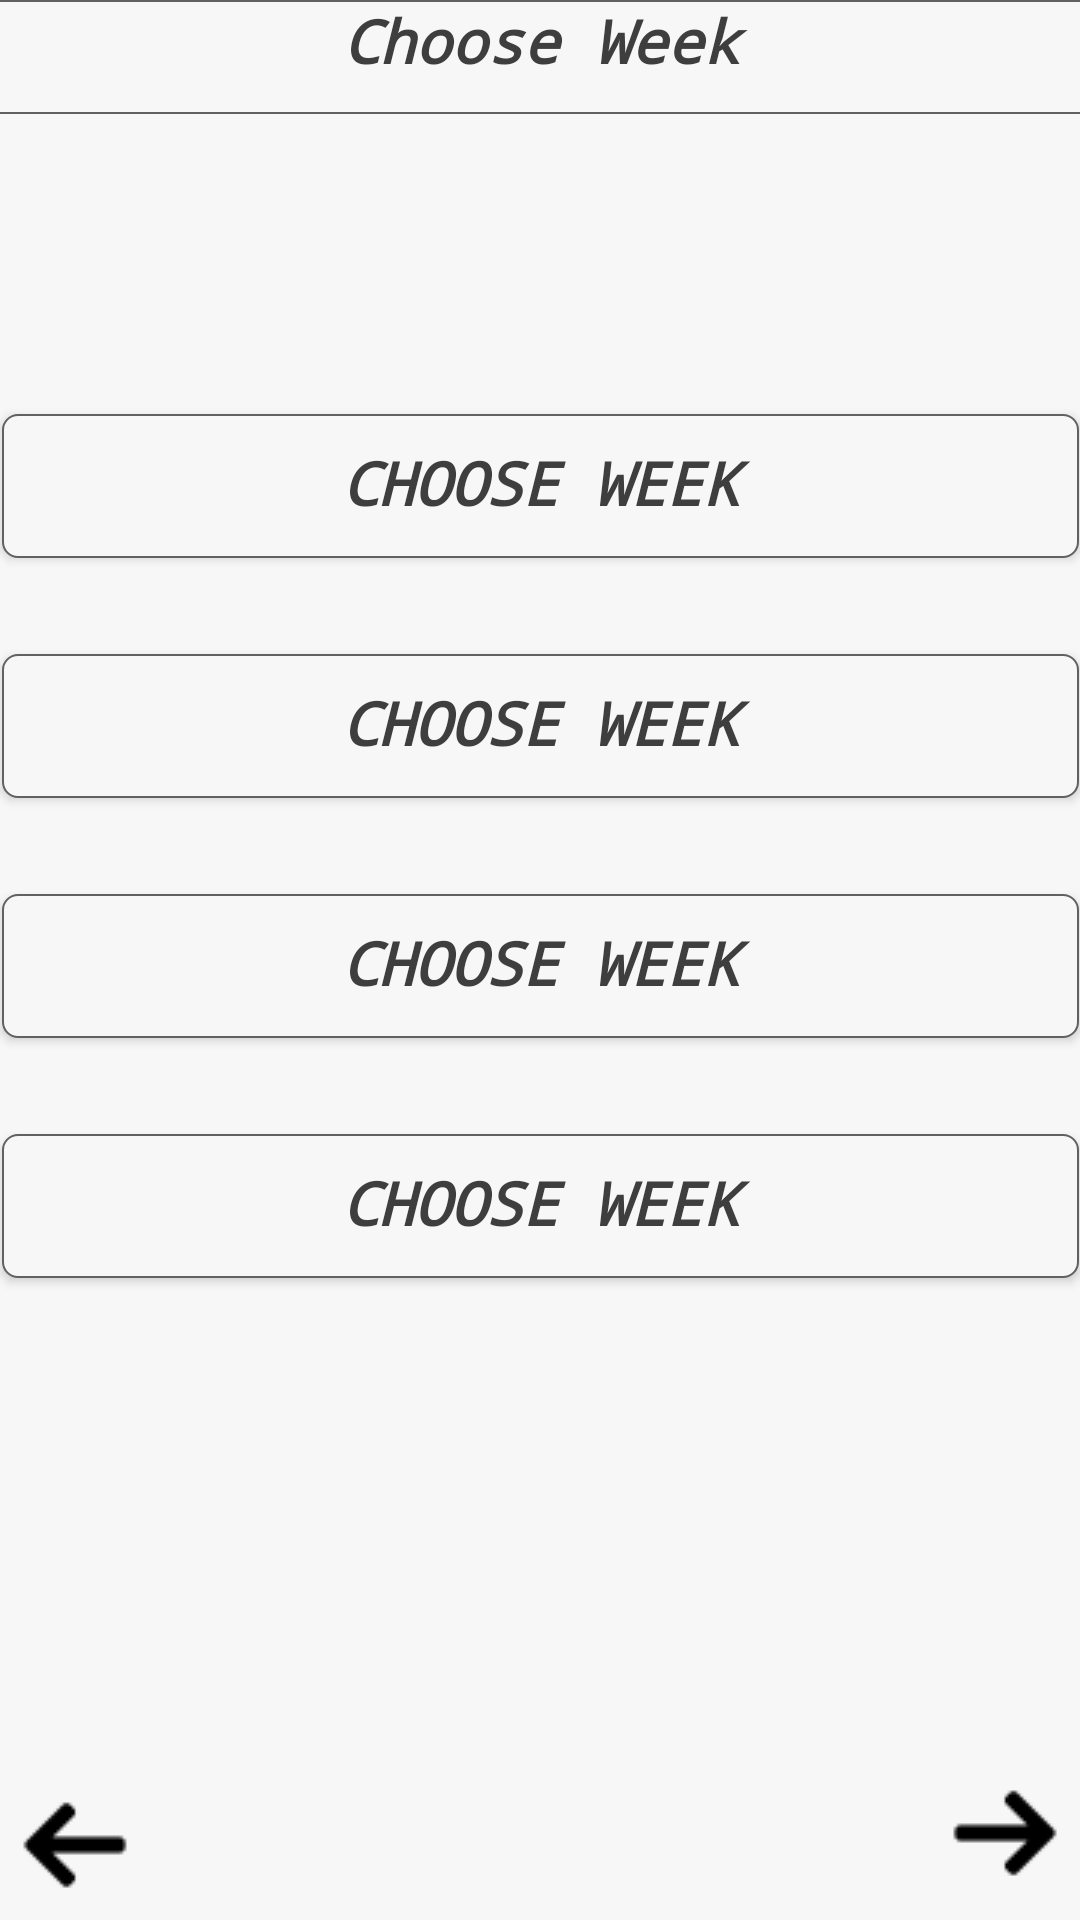

Named icons in this screenshot (1080 x 1920) and their bounding boxes, box(x1, y1, x2, y2):
Last Week: box(23, 1802, 127, 1888)
